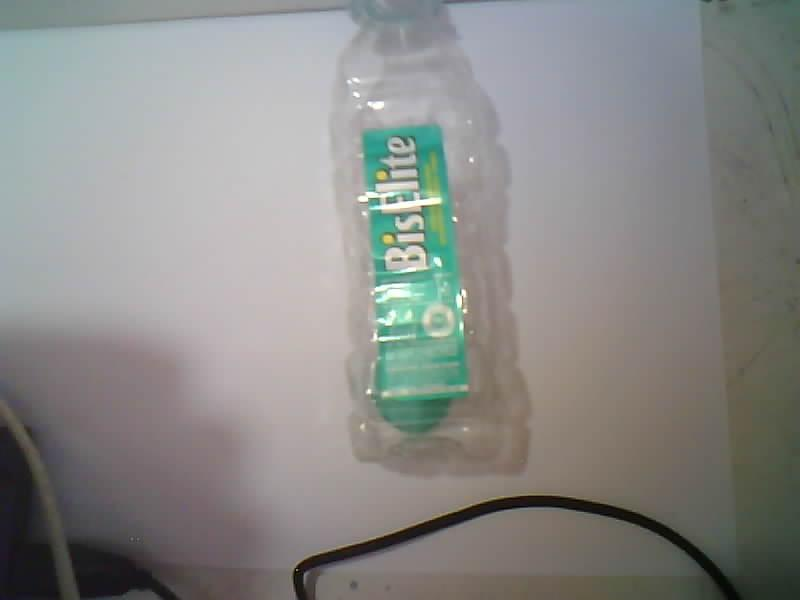non-biodegradable: (330, 0, 527, 471)
